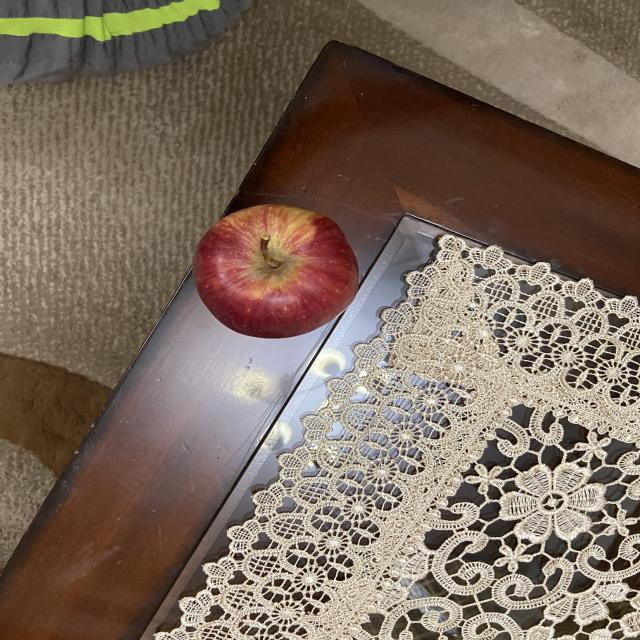apple: (194, 204, 362, 342)
